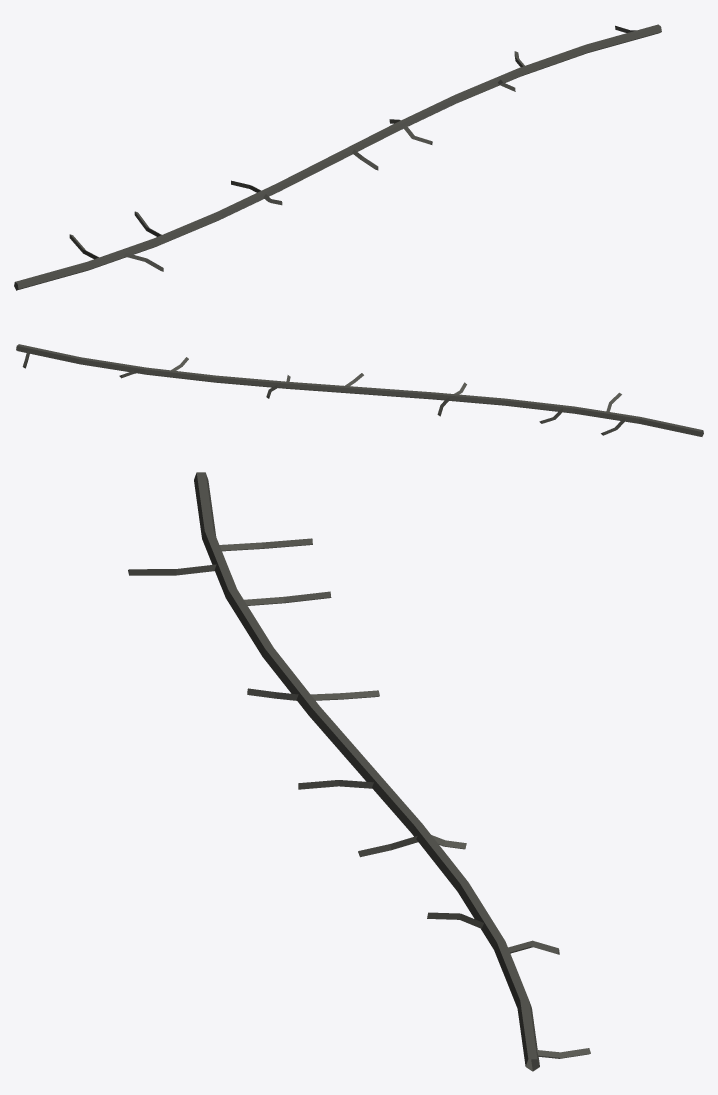
3 renders of one model, top to bottom at view 1: azimuth 30°, elevation 25°; view 2: azimuth 150°, elevation 25°; view 3: azimuth 270°, elevation 25°, orthographic. The views are drawn at different scales.
Size of the model in its own units: 1.01 by 0.0433 by 0.3815.
